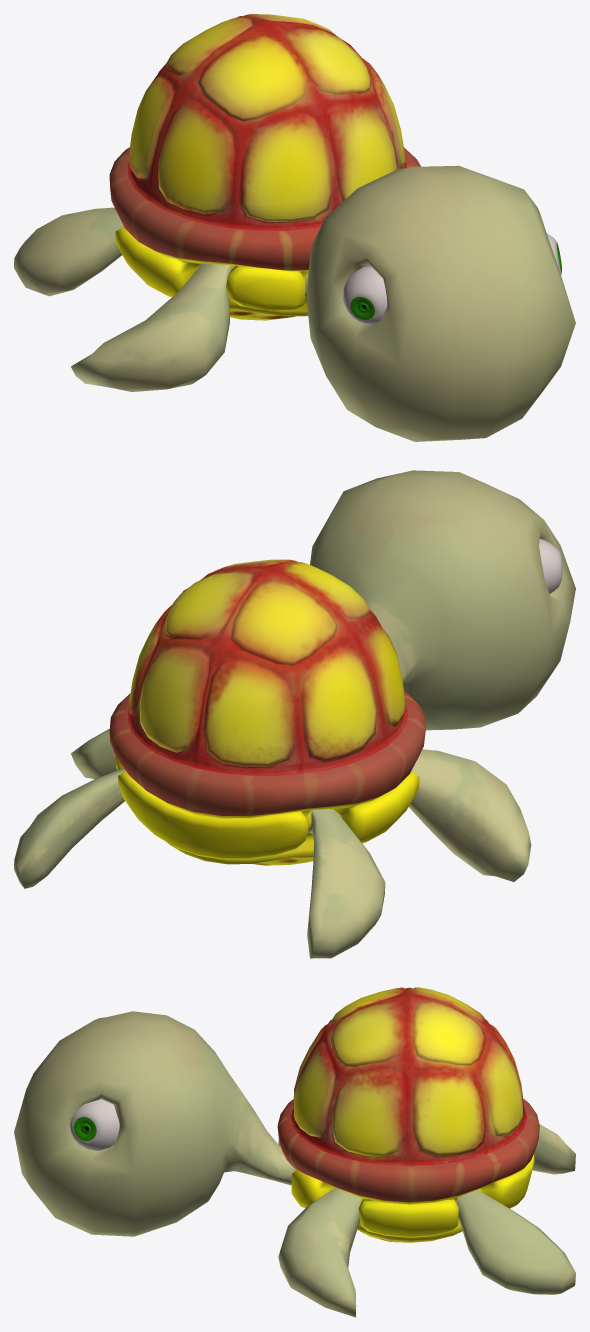
The model's file is ExportedBlenderFBXFile.fbx.
3 renders of one model, top to bottom at view 1: azimuth 30°, elevation 25°; view 2: azimuth 150°, elevation 25°; view 3: azimuth 270°, elevation 25°, orthographic. The views are drawn at different scales.
Visible parts, largest first — view 1: Hugo, Eye_001; view 2: Hugo, Eye_001; view 3: Hugo, Eye.
Boxes of the visible parts, bbox=[...] form: Hugo: bbox=[14, 14, 575, 441]; Eye_001: bbox=[343, 266, 387, 324]; Hugo: bbox=[14, 470, 575, 958]; Eye_001: bbox=[539, 539, 562, 593]; Hugo: bbox=[14, 987, 575, 1317]; Eye: bbox=[70, 1099, 119, 1150].
Bounding box in the file's own units: 5.69 × 3.46 × 7.31.
